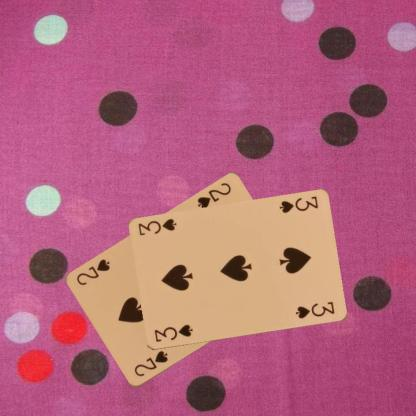2s: (194, 180, 232, 211), (131, 348, 169, 378)
3s: (276, 193, 319, 215), (152, 322, 194, 344)
